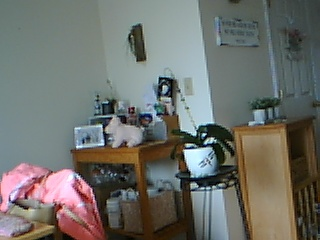piggy: (104, 115, 145, 148)
